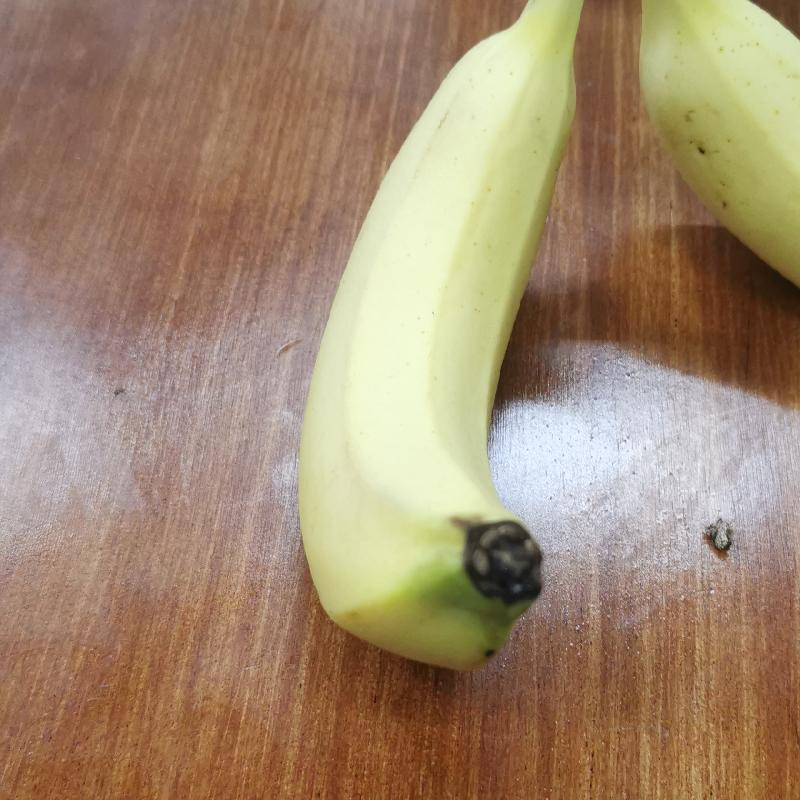bananas: (284, 9, 600, 675)
